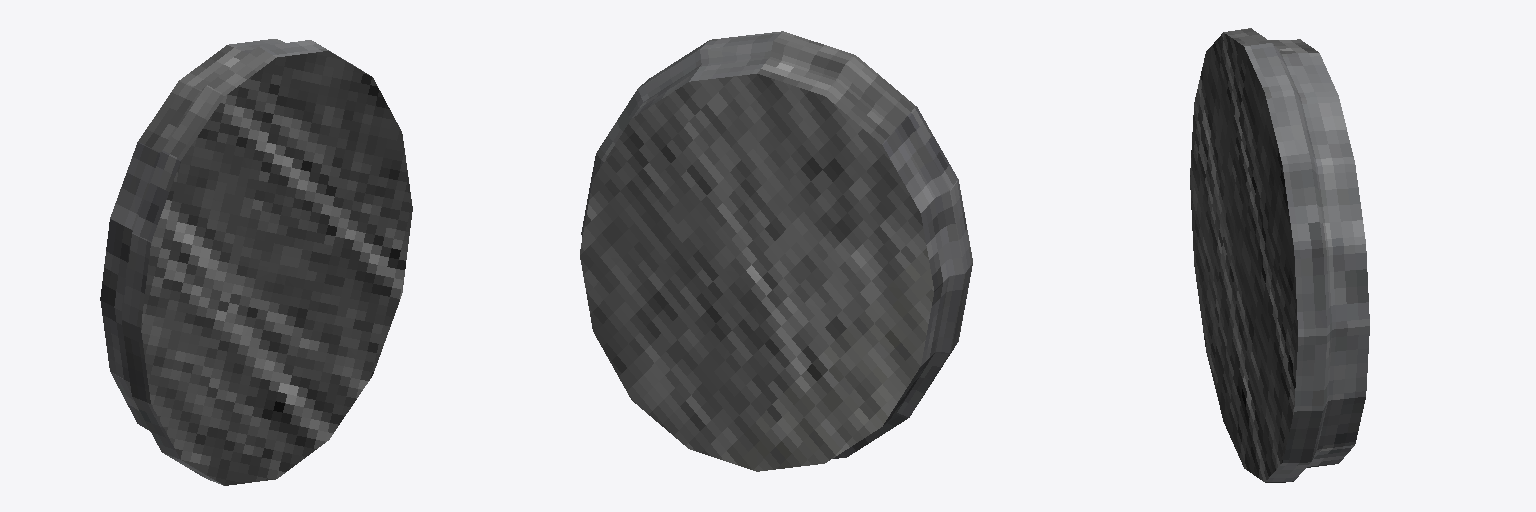
3 renders of one model, left to right at view 1: azimuth 30°, elevation 25°; view 2: azimuth 150°, elevation 25°; view 3: azimuth 270°, elevation 25°, orthographic.
Visible parts, largest first — view 1: LlantaIzq6; view 2: LlantaIzq6; view 3: LlantaIzq6.
Boxes of the visible parts, box(x1,y1,x2,y2) form: LlantaIzq6: box(100, 39, 412, 485); LlantaIzq6: box(580, 31, 972, 471); LlantaIzq6: box(1190, 28, 1369, 482).
Bounding box in the file's own units: 0.2179 × 0.2666 × 0.1024.
1 materials, 1 textured.